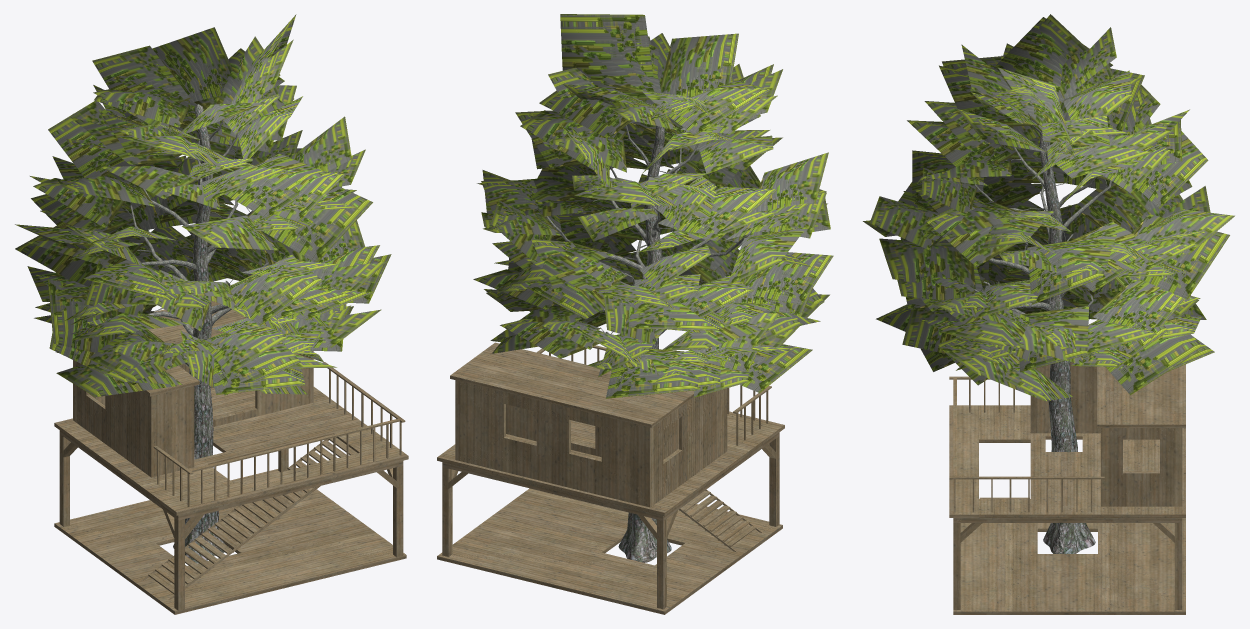
File: camp_tree_house.gltf
3 renders of one model, left to right at view 1: azimuth 30°, elevation 25°; view 2: azimuth 150°, elevation 25°; view 3: azimuth 270°, elevation 25°, orthographic. The views are drawn at different scales.
Parts seen in each view (by area): view 1: tree_house_wall, Second_Deck, tree, tree_house_wall.004, Second_Deck.001, leafs.238, leafs.186, leafs.030, tree_house_wall.005, leafs.078, leafs.064, Second_Deck.002 (+75 smaller); view 2: tree_house_wall, tree_house_wall.003, tree_house_wall.012, leafs.196, tree_house_wall.004, tree, leafs.236, Second_Deck, leafs.090, leafs.100, leafs.164, leafs.184 (+71 smaller); view 3: tree_house_wall, Second_Deck, tree, tree_house_wall.002, tree_house_wall.012, leafs.182, Second_Deck.001, leafs.176, Second_Deck.002, leafs.088, leafs.168, tree_house_wall.006 (+62 smaller).
Boxes of the visible parts, x1=… form: tree_house_wall: x1=54, y1=430, x2=406, y2=614; Second_Deck: x1=54, y1=387, x2=365, y2=484; tree: x1=117, y1=100, x2=268, y2=563; tree_house_wall.004: x1=75, y1=361, x2=154, y2=477; Second_Deck.001: x1=161, y1=445, x2=408, y2=515; leafs.238: x1=152, y1=27, x2=232, y2=102; leafs.186: x1=248, y1=185, x2=372, y2=262; leafs.030: x1=224, y1=153, x2=329, y2=218; tree_house_wall.005: x1=154, y1=386, x2=190, y2=476; leafs.078: x1=92, y1=45, x2=190, y2=121; leafs.064: x1=48, y1=101, x2=116, y2=177; Second_Deck.002: x1=134, y1=425, x2=392, y2=504; tree_house_wall: x1=437, y1=432, x2=782, y2=614; tree_house_wall.003: x1=455, y1=380, x2=652, y2=507; tree_house_wall.012: x1=450, y1=342, x2=623, y2=415; leafs.196: x1=560, y1=14, x2=653, y2=99; tree_house_wall.004: x1=652, y1=388, x2=727, y2=505; tree: x1=537, y1=104, x2=750, y2=562; leafs.236: x1=660, y1=33, x2=738, y2=97; Second_Deck: x1=437, y1=420, x2=743, y2=516; leafs.090: x1=744, y1=252, x2=833, y2=305; leafs.100: x1=751, y1=152, x2=828, y2=212; leafs.164: x1=606, y1=348, x2=699, y2=398; leafs.184: x1=658, y1=186, x2=777, y2=241; tree_house_wall: x1=953, y1=518, x2=1185, y2=614; Second_Deck: x1=1030, y1=428, x2=1185, y2=517; tree: x1=974, y1=98, x2=1149, y2=553; tree_house_wall.002: x1=1104, y1=428, x2=1178, y2=506; tree_house_wall.012: x1=1097, y1=364, x2=1185, y2=427; leafs.182: x1=1027, y1=234, x2=1116, y2=304; Second_Deck.001: x1=949, y1=405, x2=978, y2=517; leafs.176: x1=879, y1=238, x2=975, y2=292; Second_Deck.002: x1=979, y1=405, x2=1030, y2=517; leafs.088: x1=1092, y1=279, x2=1184, y2=338; leafs.168: x1=1105, y1=315, x2=1203, y2=394; tree_house_wall.006: x1=1030, y1=362, x2=1100, y2=433.
Size of the model in its own units: 9.73 by 15.01 by 10.09.
Materials: 3 (3 with a texture image).
